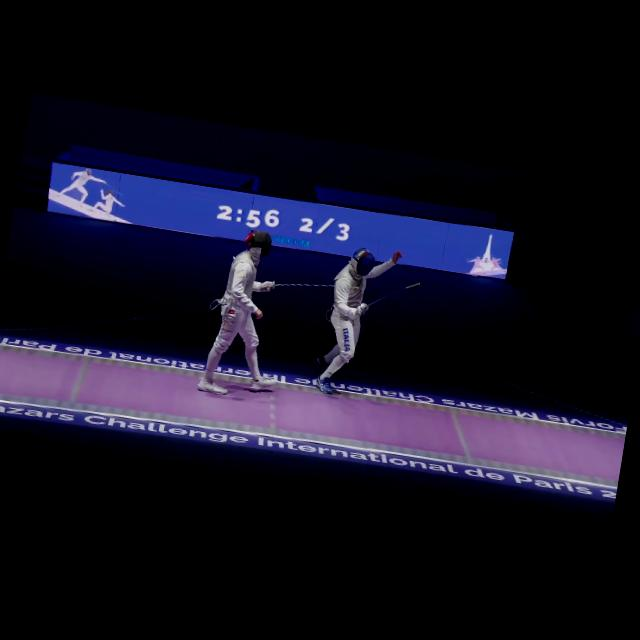blade: (264, 270, 364, 307), (353, 272, 422, 324)
